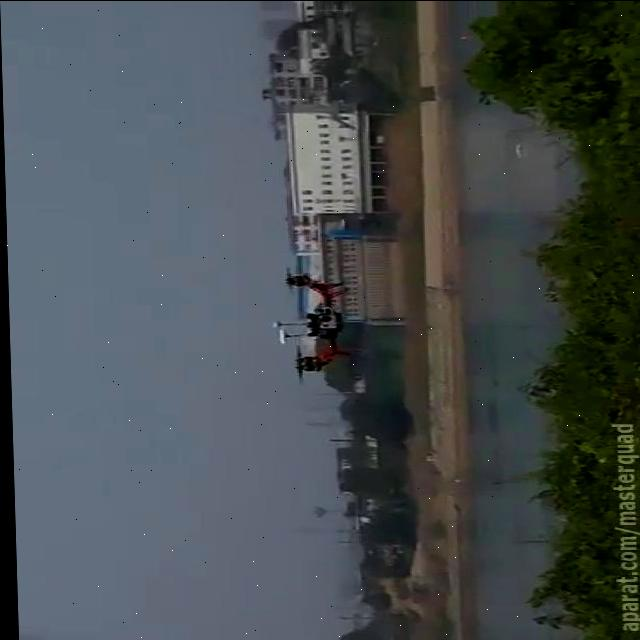drone: (265, 260, 355, 388)
